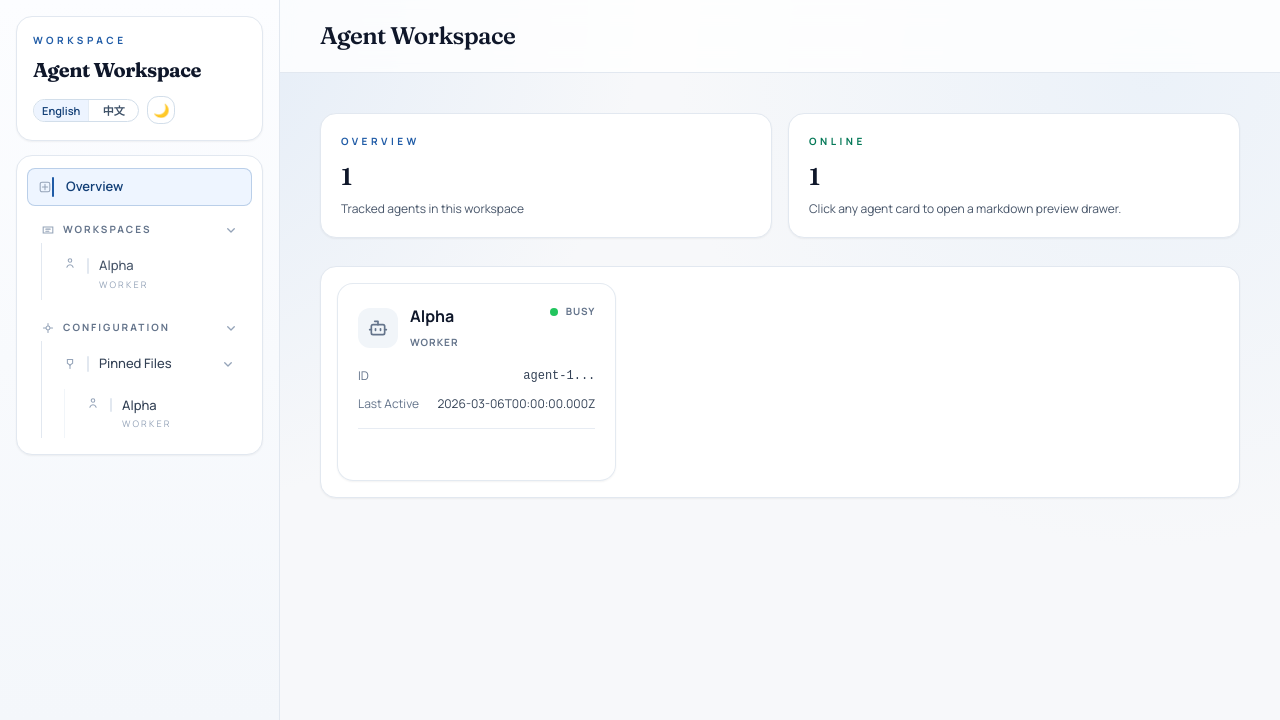
Test: AgentWorkspace layout › opens a markdown preview drawer from the overview when an agent card is selected
Click the element with test id "agent-card-agent-1": (477, 382) [337,283,616,481]
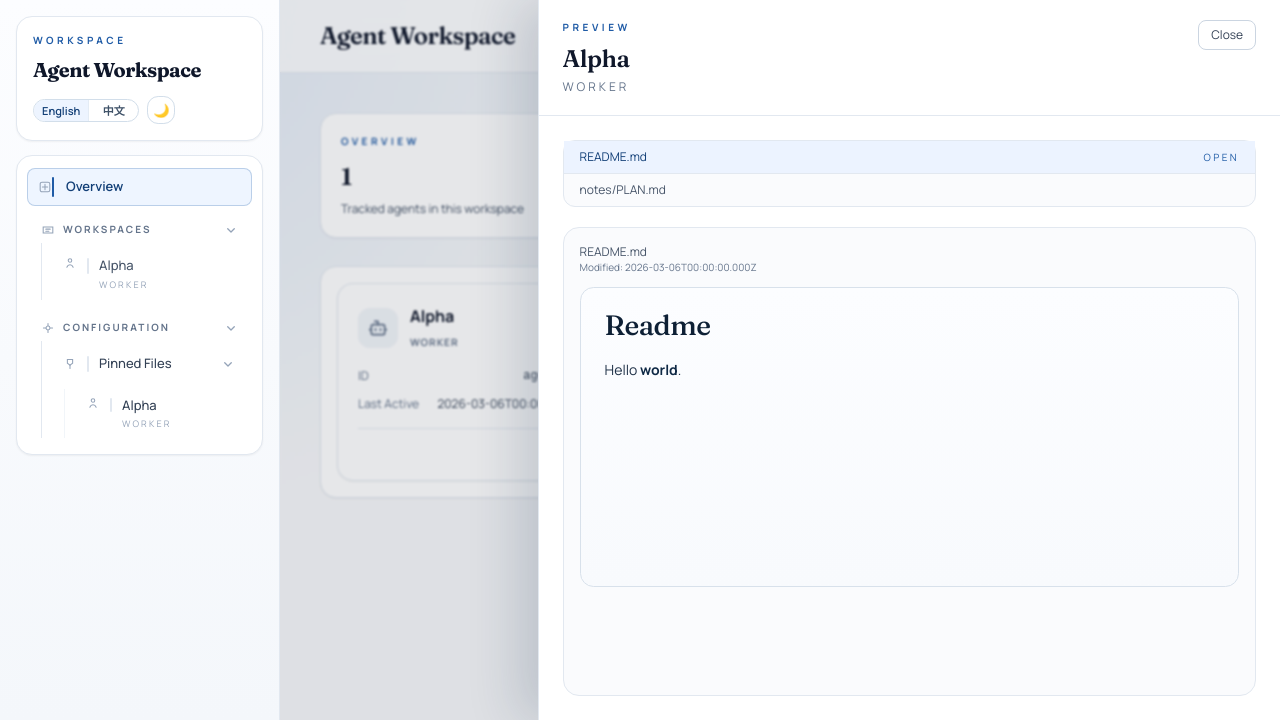
Check: the element with test id "preview-drawer" is shown, box [538,0,1279,719]
Check: the 1st text "README.md" is shown, box [580,149,647,165]
Check: the text "world" is shown, box [640,360,678,379]
